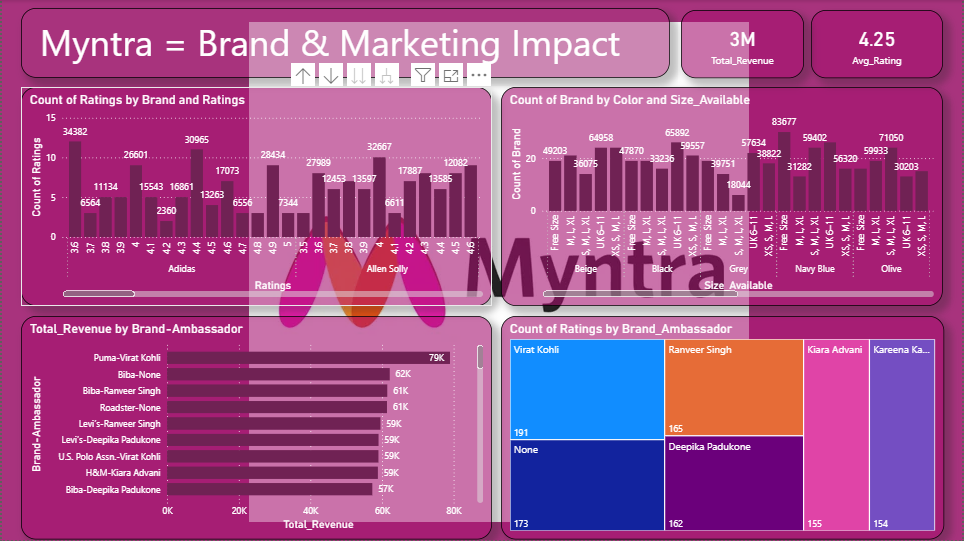

The page's visual inventory and layout, read from the dashboard file:
{"tool":"powerbi","page":{"name":"Brand & Marketing Impact","canvas":[1280,720],"ordinal":3},"visuals":[{"type":"textbox","box":[25.3,10.7,865.3,93.3],"z":0},{"type":"clusteredColumnChart","fields":{"Y":["Myntra_Fashion_Dataset.Ratings"],"Category":["Myntra_Fashion_Dataset.Brand","Myntra_Fashion_Dataset.Ratings"]},"box":[25.3,116,628,292],"z":1000},{"type":"clusteredBarChart","fields":{"Category":["Myntra_Fashion_Dataset.Brand-Ambassador"],"Y":["Myntra_Fashion_Dataset.Total_Revenue"]},"box":[24.7,421.8,628.4,298.2],"z":2000},{"type":"clusteredColumnChart","fields":{"Category":["Myntra_Fashion_Dataset.Color","Myntra_Fashion_Dataset.Size_Available"],"Y":["Myntra_Fashion_Dataset.Brand"]},"box":[665.3,116,589.3,292],"z":3000},{"type":"treemap","fields":{"Group":["Myntra_Fashion_Dataset.Brand_Ambassador"],"Values":["Myntra_Fashion_Dataset.Ratings"]},"box":[664.7,421.8,590.5,298.2],"z":4000},{"type":"card","fields":{"Values":["Myntra_Fashion_Dataset.Avg_Rating"]},"box":[1078.7,13.3,176,90.7],"z":5000},{"type":"card","fields":{"Values":["Myntra_Fashion_Dataset.Total_Revenue"]},"box":[905.3,13.3,164,90.7],"z":6000}]}

Visuals, with their boxes in screenshot pixels (x1, y1, x2, y2), scaled from the page's 1280x720 canvas onto the 964x541 screenshot:
textbox: box=[19, 8, 671, 78]
clusteredColumnChart - Myntra_Fashion_Dataset.Ratings x Myntra_Fashion_Dataset.Brand: box=[19, 87, 492, 307]
clusteredBarChart - Myntra_Fashion_Dataset.Brand-Ambassador x Myntra_Fashion_Dataset.Total_Revenue: box=[19, 317, 492, 540]
clusteredColumnChart - Myntra_Fashion_Dataset.Color x Myntra_Fashion_Dataset.Size_Available: box=[501, 87, 945, 307]
treemap - Myntra_Fashion_Dataset.Brand_Ambassador x Myntra_Fashion_Dataset.Ratings: box=[501, 317, 945, 540]
card - Myntra_Fashion_Dataset.Avg_Rating: box=[812, 10, 945, 78]
card - Myntra_Fashion_Dataset.Total_Revenue: box=[682, 10, 805, 78]
